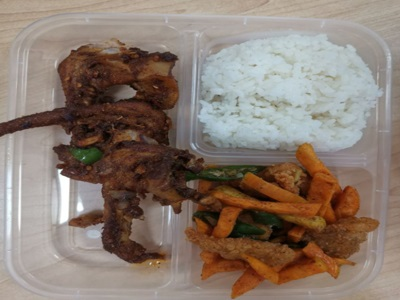r5: (204, 157, 359, 281)
rice: (213, 35, 366, 146)
yt: (35, 37, 179, 266)
